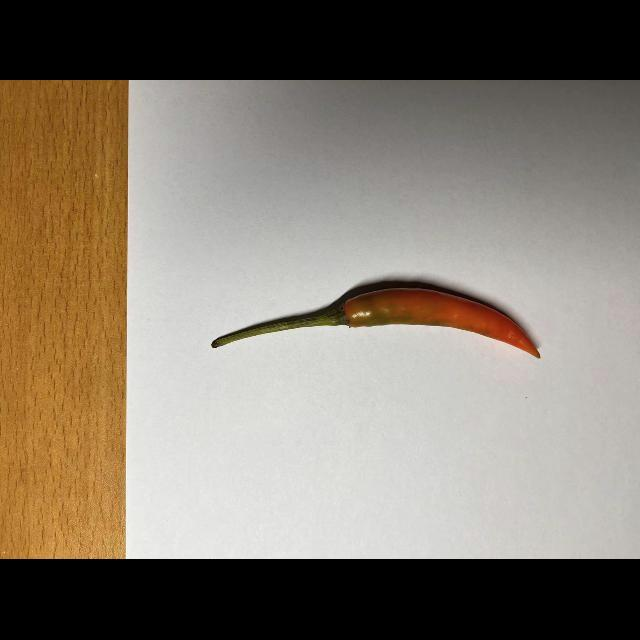chili_pepper: (209, 280, 545, 369)
